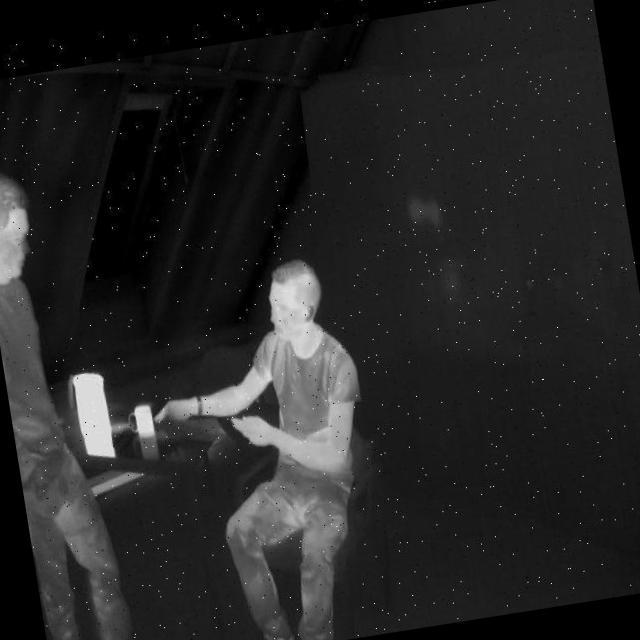person: (141, 251, 400, 640), (0, 139, 151, 640)
